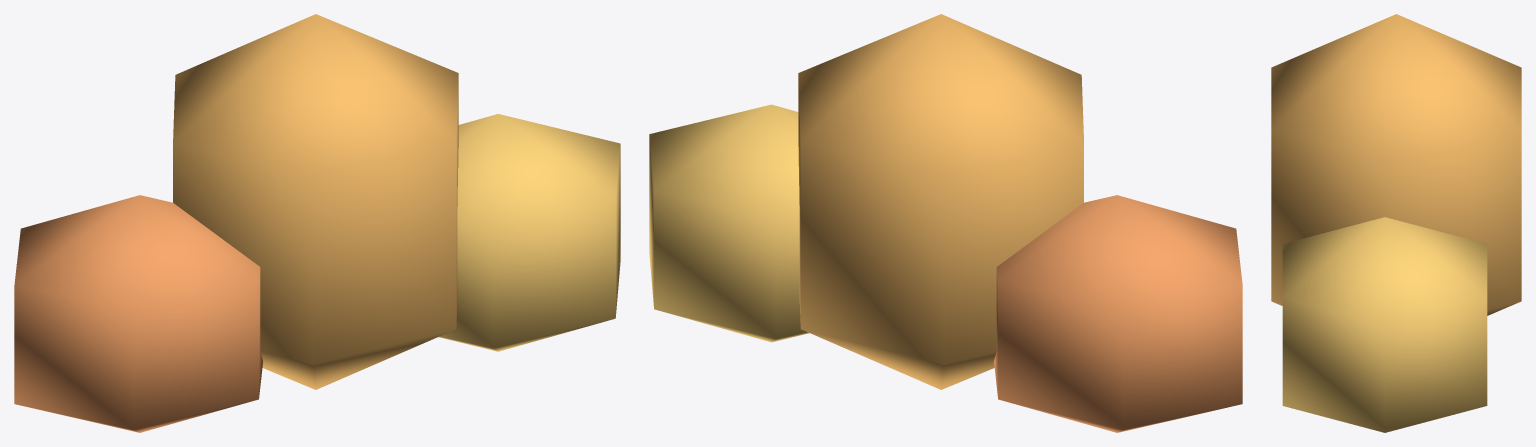
File: bush_mounded_autumn_low.glb
3 views of the same model, side by side, from view 1: azimuth 30°, elevation 25°; view 2: azimuth 150°, elevation 25°; view 3: azimuth 270°, elevation 25° (orthographic). The views are drawn at different scales.
Bounding box in the file's own units: 1.64 × 0.98 × 0.6525.
